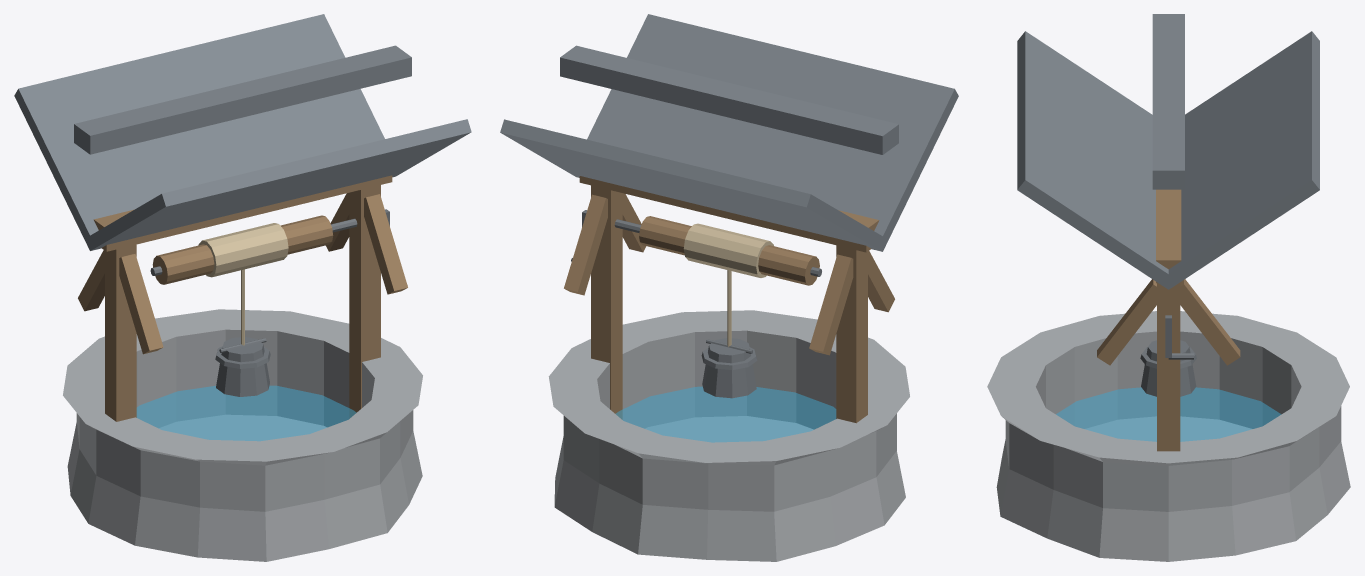
Rendered from farm_well.glb.
The picture shows the model from 3 angles, left to right: view 1: azimuth 30°, elevation 25°; view 2: azimuth 150°, elevation 25°; view 3: azimuth 270°, elevation 25°; orthographic projection.
Parts seen in each view (by area): view 1: well_stone, well_roof, well_timber, well_water, well_rope, well_hardware; view 2: well_stone, well_roof, well_timber, well_water, well_rope, well_hardware; view 3: well_stone, well_roof, well_timber, well_water, well_hardware.
Boxes of the visible parts, x1,y1,x2,y2 form: well_stone: [63, 309, 422, 561]; well_roof: [14, 14, 471, 250]; well_timber: [78, 175, 407, 421]; well_water: [136, 385, 356, 441]; well_rope: [198, 223, 288, 345]; well_hardware: [150, 209, 389, 396]; well_stone: [548, 310, 909, 561]; well_roof: [500, 14, 958, 251]; well_timber: [564, 176, 894, 423]; well_water: [616, 386, 836, 442]; well_rope: [683, 223, 773, 346]; well_hardware: [571, 210, 821, 398]; well_stone: [987, 311, 1350, 561]; well_roof: [1017, 14, 1319, 289]; well_timber: [1097, 189, 1240, 451]; well_water: [1056, 387, 1281, 441]; well_hardware: [1140, 315, 1196, 396].
Bounding box in the file's own units: 3.21 × 3.77 × 3.15.
